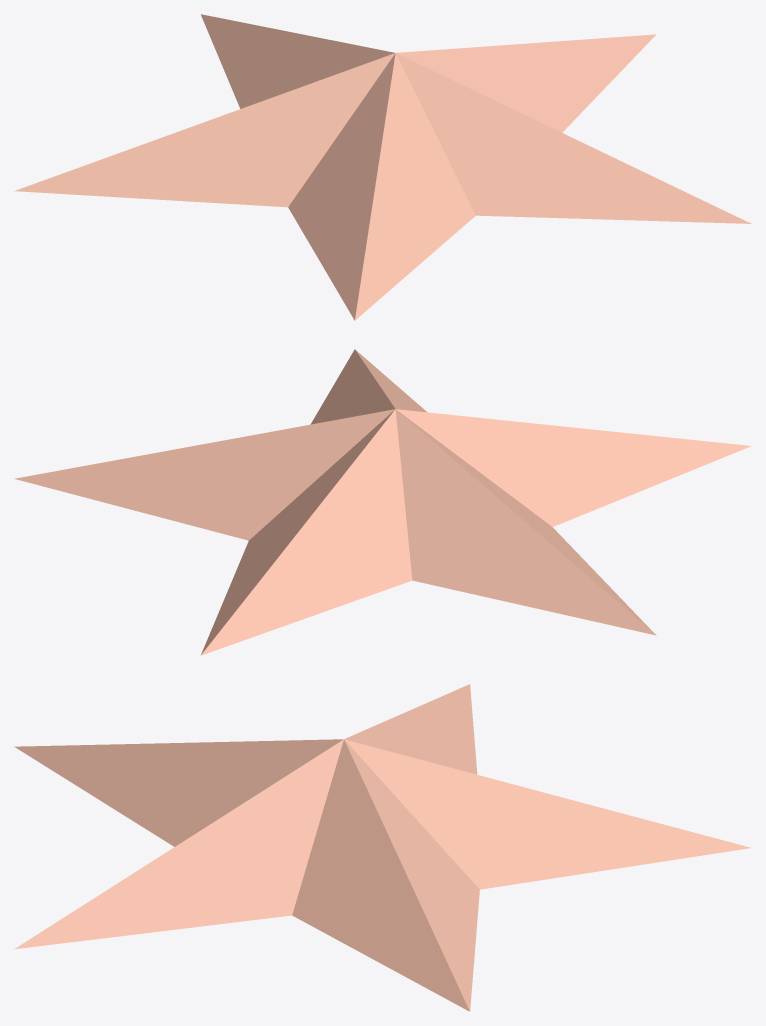
File: Starfish.fbx
The picture shows the model from 3 angles, top to bottom: view 1: azimuth 30°, elevation 25°; view 2: azimuth 150°, elevation 25°; view 3: azimuth 270°, elevation 25°; orthographic projection. The views are drawn at different scales.
Parts seen in each view (by area): view 1: Starfish; view 2: Starfish; view 3: Starfish.
Part boxes in pixels (bbox=[...]): Starfish: bbox=[14, 14, 751, 320]; Starfish: bbox=[14, 349, 751, 655]; Starfish: bbox=[14, 684, 750, 1011].
Bounding box in the file's own units: 0.3234 × 0.05 × 0.3075.
